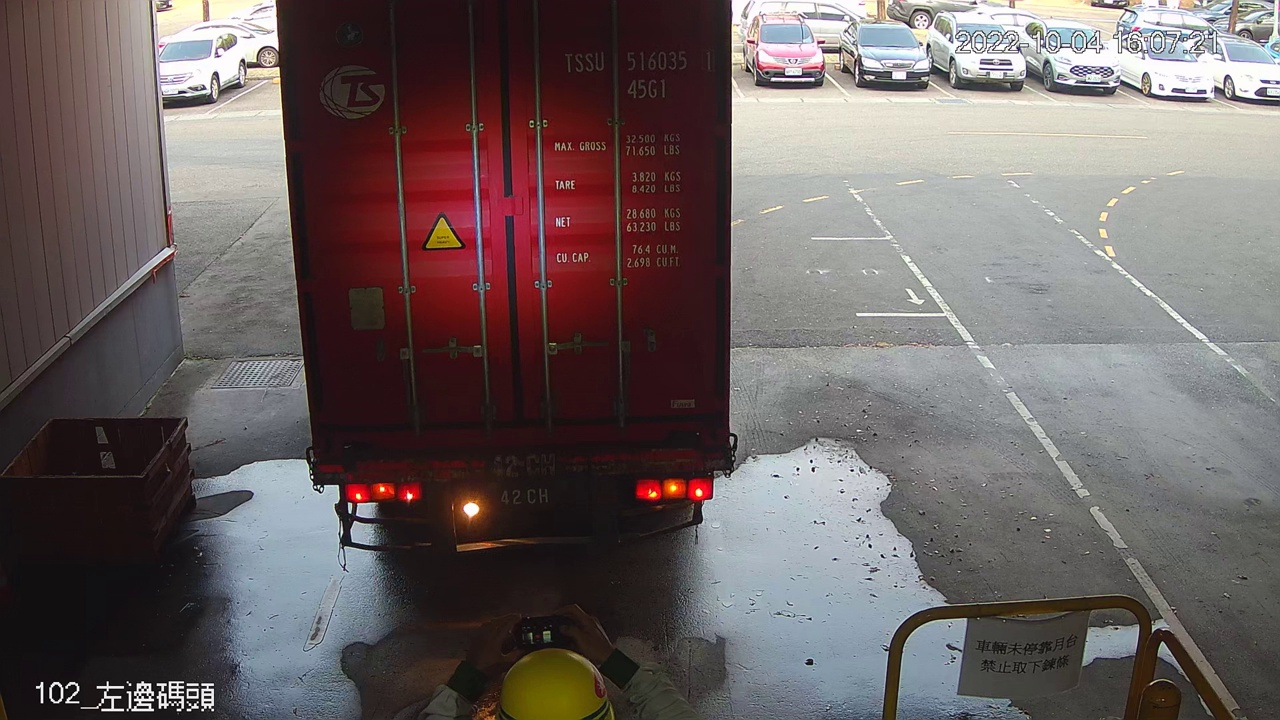container: (556, 46, 721, 103)
